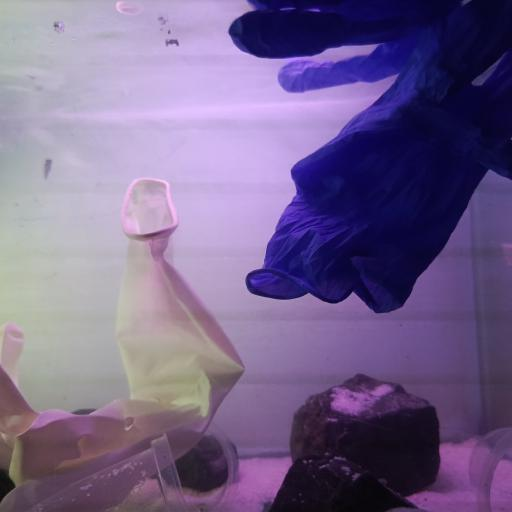glove: (226, 0, 511, 314), (0, 172, 247, 502)
plastic_cup: (24, 433, 191, 512), (163, 419, 241, 510), (469, 427, 512, 511)
